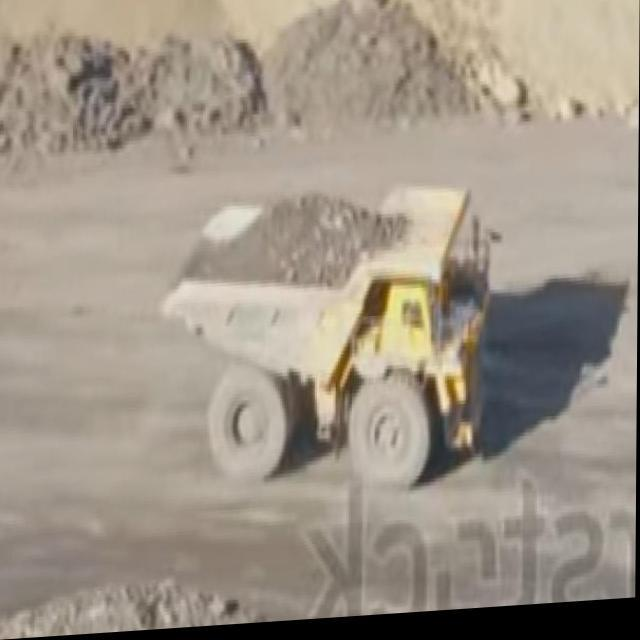uncovered: (166, 175, 468, 532)
